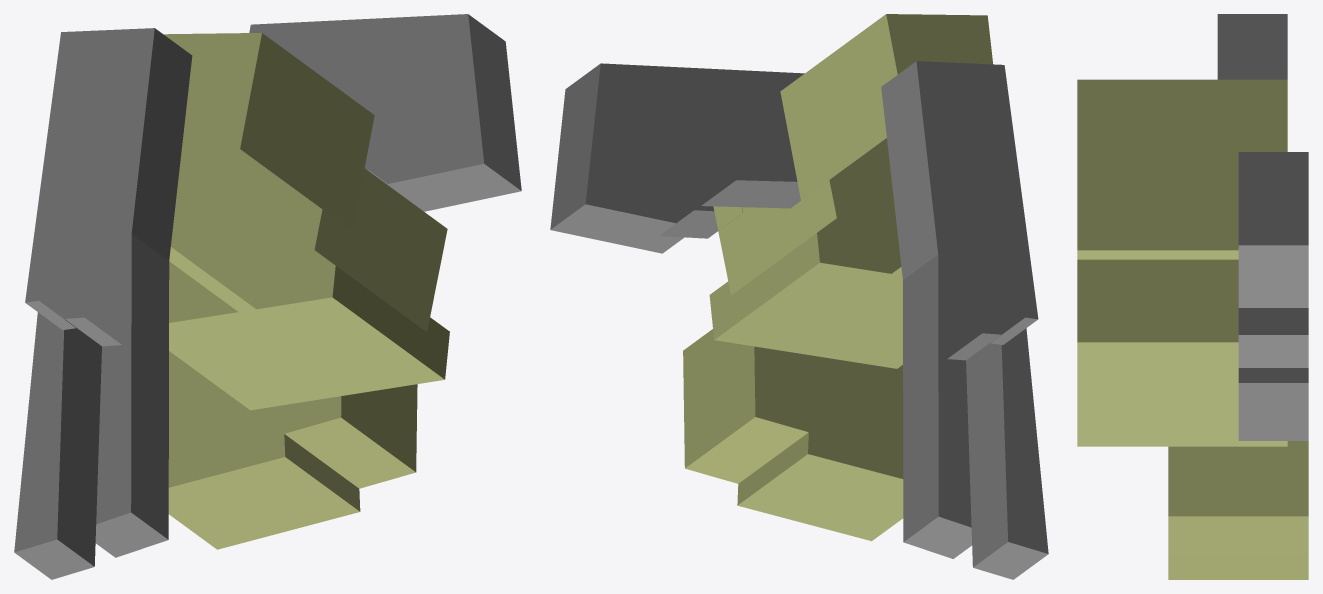
3 views of the same model, side by side, from view 1: azimuth 30°, elevation 25°; view 2: azimuth 150°, elevation 25°; view 3: azimuth 270°, elevation 25° (orthographic). The views are drawn at different scales.
Visible parts, largest first — view 1: 0_1_0_2_0_0_0_1_1_0; view 2: 0_1_0_2_0_0_0_1_1_0; view 3: 0_1_0_2_0_0_0_1_1_0.
Boxes of the visible parts, x1,y1,x2,y2 form: 0_1_0_2_0_0_0_1_1_0: (14,14,521,579); 0_1_0_2_0_0_0_1_1_0: (550,14,1048,579); 0_1_0_2_0_0_0_1_1_0: (1077,14,1308,579).
Size of the model in its own units: 22.21 by 22.44 by 9.9.
